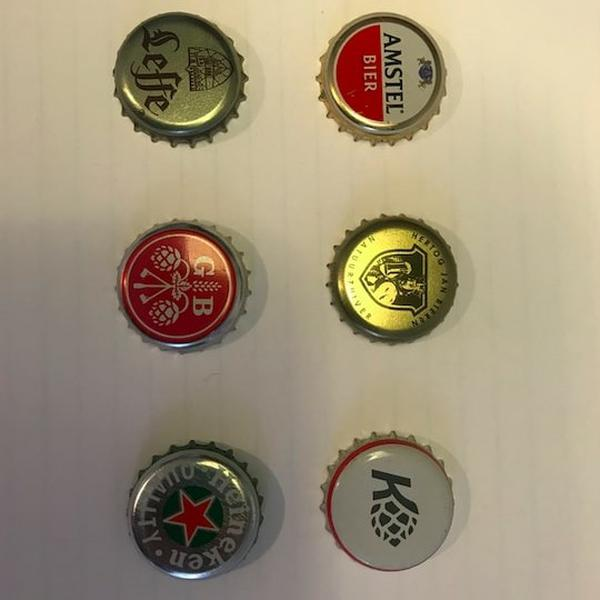amstel: (313, 7, 451, 153)
grolsch: (112, 216, 255, 359)
heineken: (122, 439, 265, 584)
hertog jan: (322, 211, 461, 352)
kornuit: (316, 427, 460, 577)
leffe: (107, 8, 254, 152)
